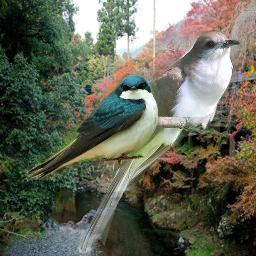Cuckoo: (76, 30, 241, 254)
Swallow: (25, 74, 160, 180)
